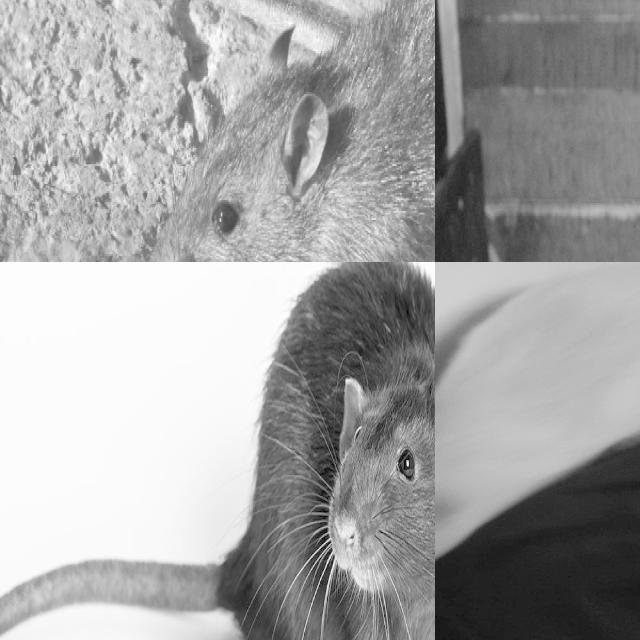rat: (87, 262, 435, 640), (135, 0, 435, 262), (435, 262, 640, 601)
